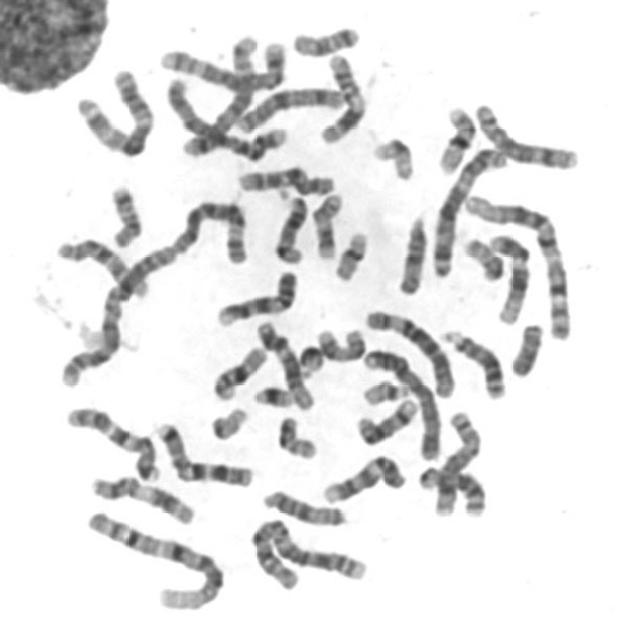A1: (458, 186, 575, 342), (79, 504, 228, 613)
A2: (51, 242, 181, 391), (242, 511, 370, 593)
A3: (425, 138, 511, 280), (69, 60, 157, 158)
B4: (160, 72, 292, 162), (358, 339, 444, 463)
B5: (177, 29, 260, 161), (157, 33, 289, 93)
C10: (51, 231, 153, 302), (231, 158, 338, 197)
C11: (84, 468, 198, 527), (314, 47, 368, 146)
C12: (251, 314, 317, 412), (484, 228, 535, 326)
C6: (360, 302, 457, 400), (165, 198, 256, 274)
C7: (60, 400, 164, 484), (148, 414, 257, 489)
C8: (468, 95, 583, 172), (429, 405, 484, 519)
C9: (210, 263, 301, 329), (315, 447, 408, 506)
D13: (436, 322, 510, 402), (412, 458, 489, 518)
D14: (349, 392, 422, 448), (268, 186, 310, 266)
D15: (258, 483, 349, 527), (391, 208, 431, 297)
E16: (206, 339, 271, 403), (431, 99, 479, 176)
E17: (307, 186, 345, 261), (312, 321, 368, 363)
E18: (103, 178, 146, 250), (286, 19, 362, 58)
F19: (367, 130, 418, 182), (328, 224, 371, 283)
F20: (457, 230, 507, 283), (270, 409, 320, 461)
G21: (248, 379, 296, 410), (291, 337, 326, 377)
G22: (356, 372, 413, 406), (204, 401, 251, 442)
X: (230, 79, 347, 136)
Y: (504, 315, 546, 379)
